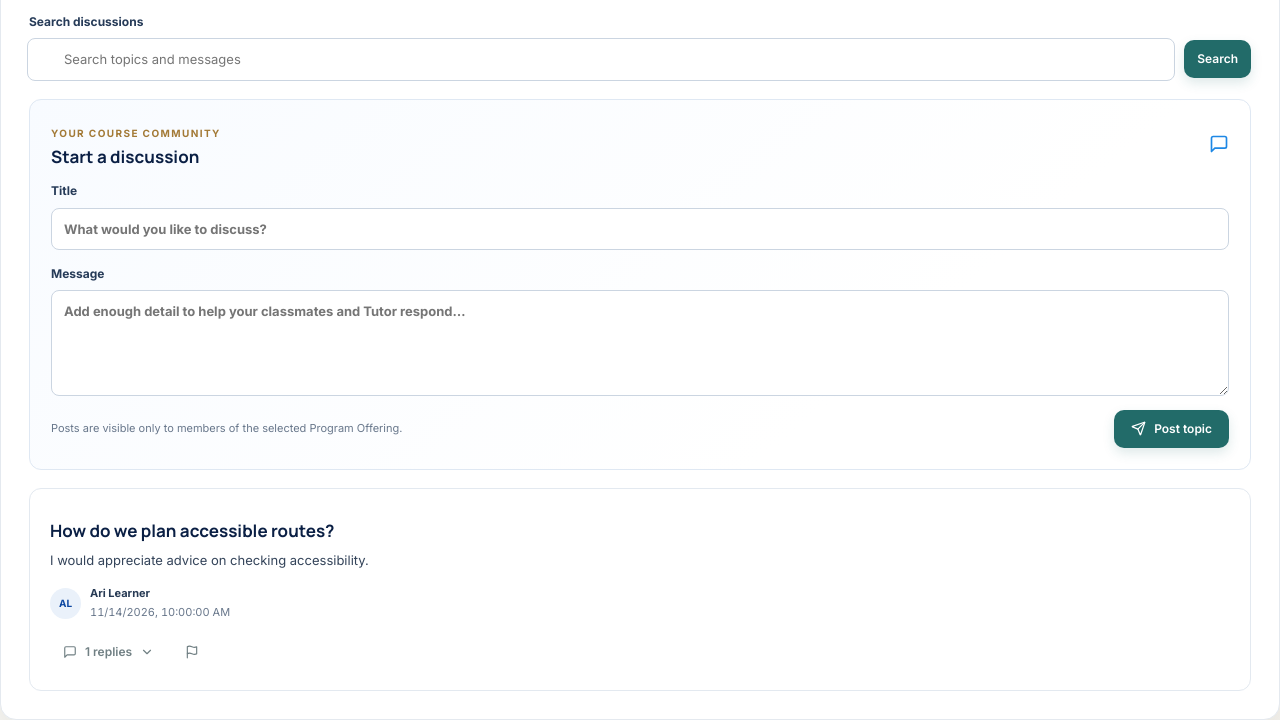
Test: CourseDiscussions › lets students report another author’s post and keeps the report visible as submitted
The image size is (1280, 720).
(page scrolled)
Check: the heading "How do we plan accessible routes?" is shown, box x1=50 y1=519 x2=334 y2=542
Click the button named "Report How do we plan accessible routes?" at [192, 652], box x1=174 y1=635 x2=209 y2=670
(page scrolled)
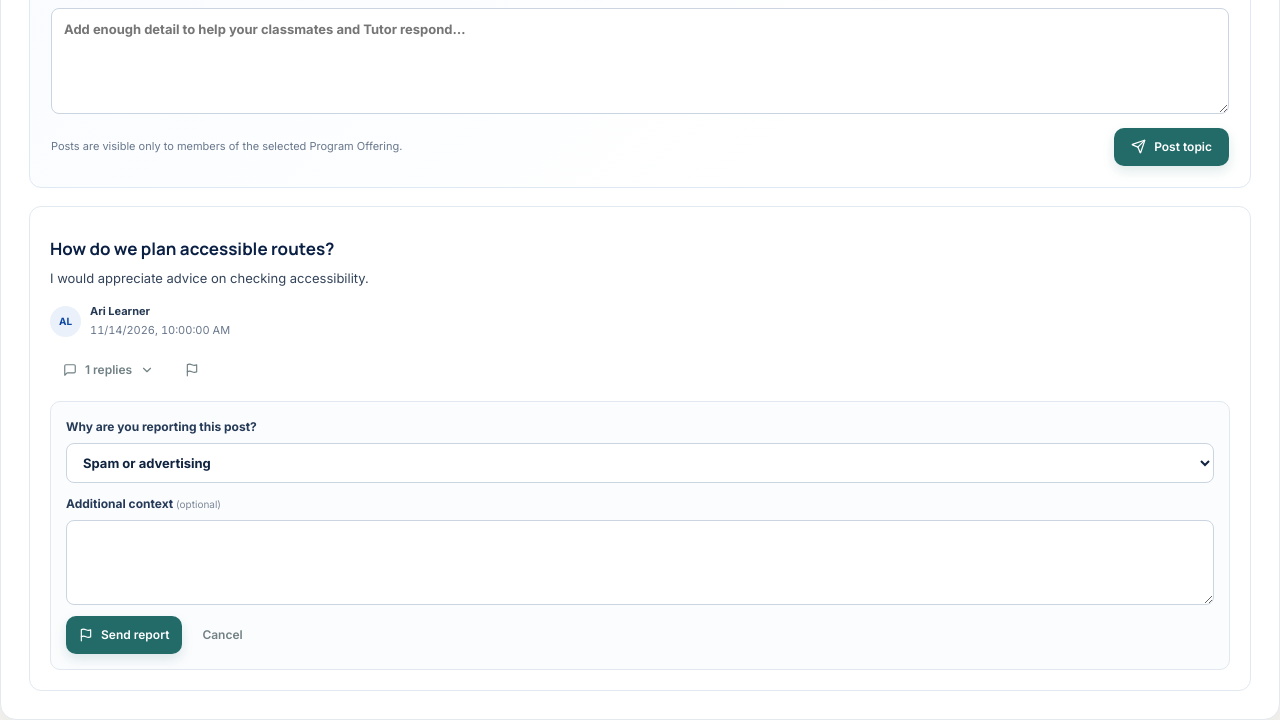
Type "This contains unrelated advertising." into the text box labelled "Additional context (optional)" at [640, 562], box x1=66 y1=520 x2=1214 y2=604
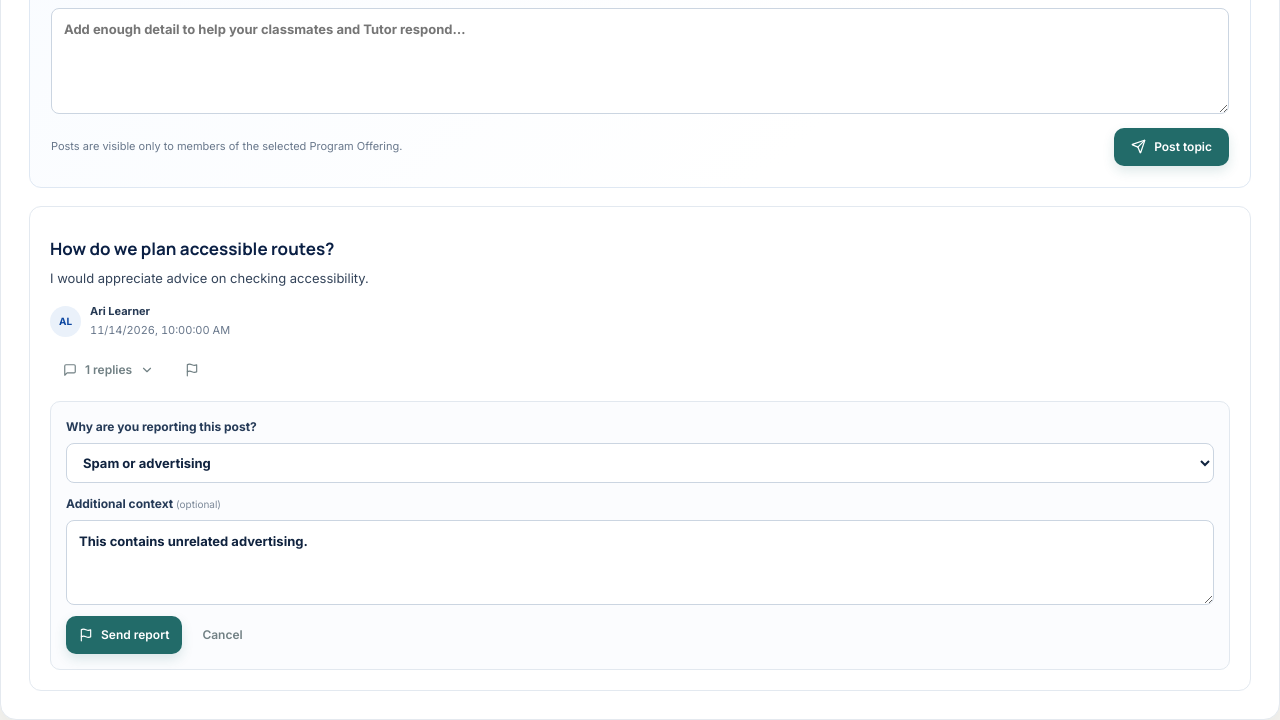
Click the button "Send report" at [124, 634], box x1=66 y1=616 x2=182 y2=654
(page scrolled)
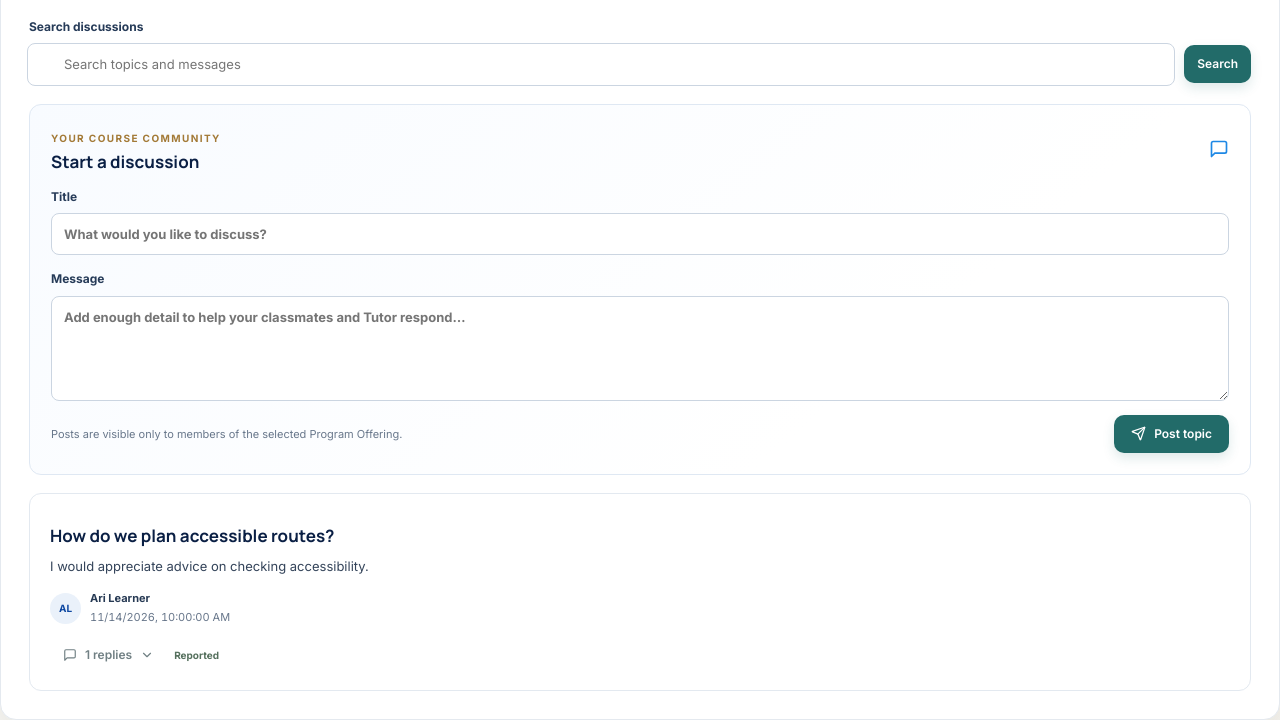
Check: the text "Reported" is shown, box x1=174 y1=647 x2=219 y2=663
